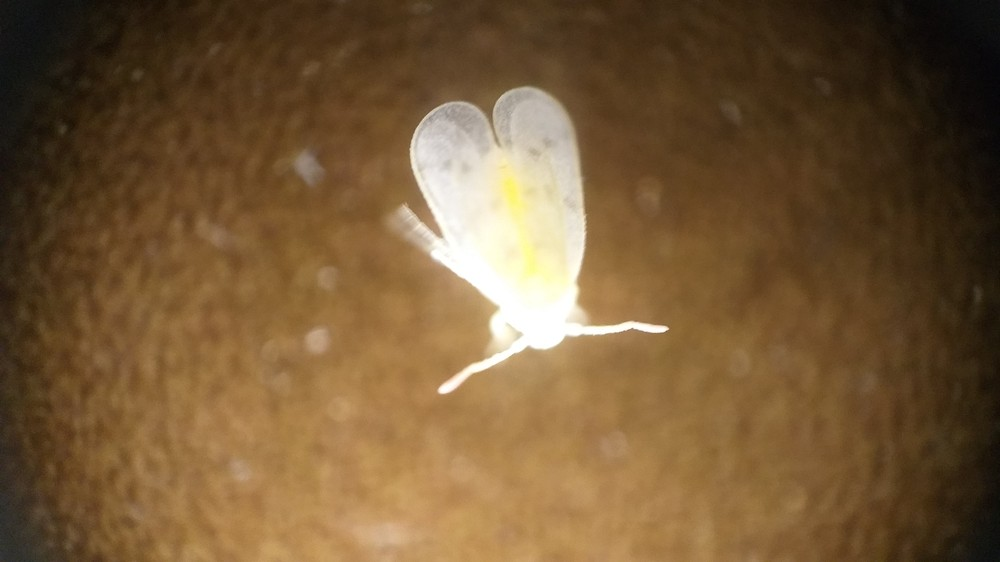Mosca Blanca: (370, 76, 692, 416)
